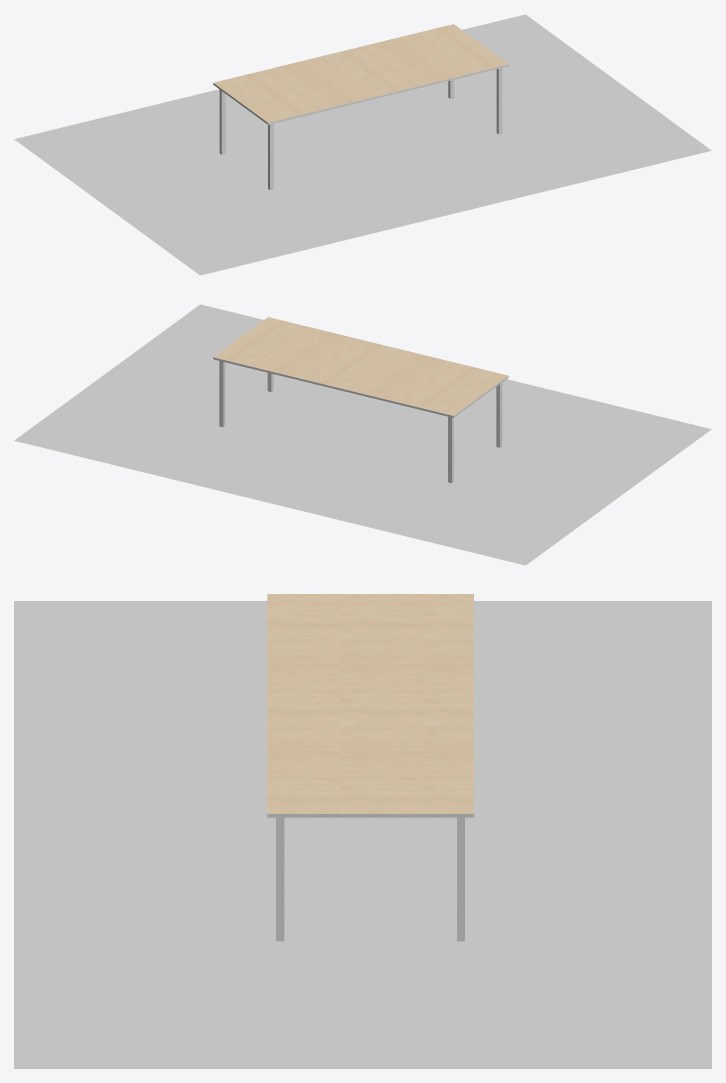
File: Meeting Table SHC QuickOffice.fbx
3 views of the same model, one above another, from view 1: azimuth 30°, elevation 25°; view 2: azimuth 150°, elevation 25°; view 3: azimuth 270°, elevation 25° (orthographic). The views are drawn at different scales.
Parts seen in each view (by area): view 1: Model, Component_86_1; view 2: Model, Component_86_1; view 3: Model, Component_86_1.
Boxes of the visible parts, x1=… form: Model: x1=14, y1=14, x2=711, y2=275; Component_86_1: x1=213, y1=24, x2=508, y2=190; Model: x1=14, y1=304, x2=711, y2=565; Component_86_1: x1=213, y1=317, x2=508, y2=483; Model: x1=14, y1=601, x2=711, y2=1068; Component_86_1: x1=267, y1=594, x2=473, y2=941.
Size of the model in its own units: 5.36 by 0.7 by 3.38.
